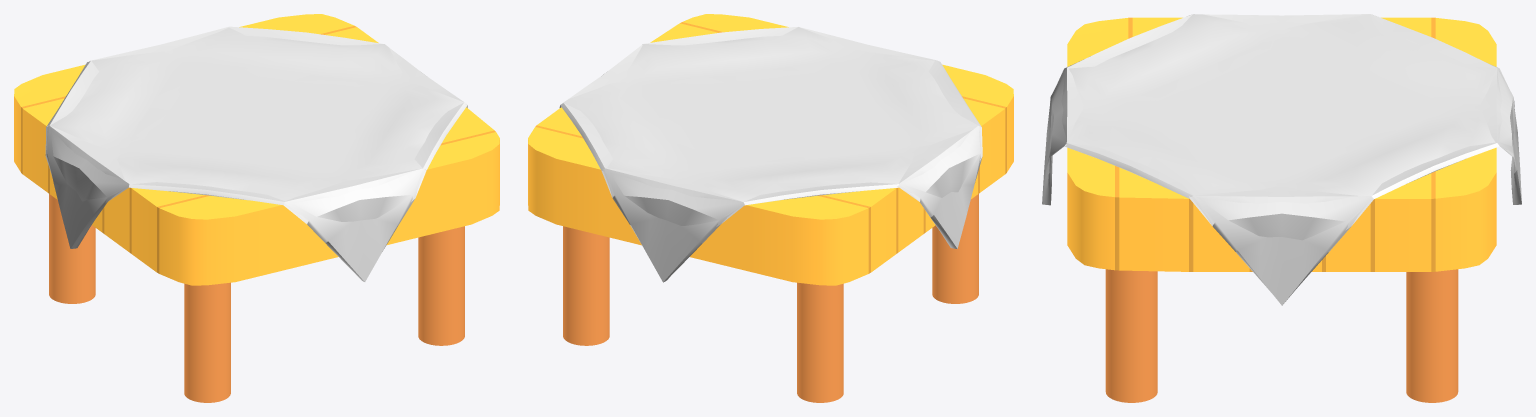
The model's file is Table 2.fbx.
The picture shows the model from 3 angles, left to right: view 1: azimuth 30°, elevation 25°; view 2: azimuth 150°, elevation 25°; view 3: azimuth 270°, elevation 25°; orthographic projection. The views are drawn at different scales.
Parts seen in each view (by area): view 1: Upgrade, Table; view 2: Upgrade, Table; view 3: Upgrade, Table.
Boxes of the visible parts, box(x1,y1,x2,y2) form: Upgrade: box(45, 26, 467, 281); Table: box(14, 14, 499, 402); Upgrade: box(559, 26, 982, 282); Table: box(528, 14, 1013, 402); Upgrade: box(1042, 14, 1521, 305); Table: box(1067, 17, 1496, 402).
Size of the model in its own units: 167 by 87.48 by 168.
